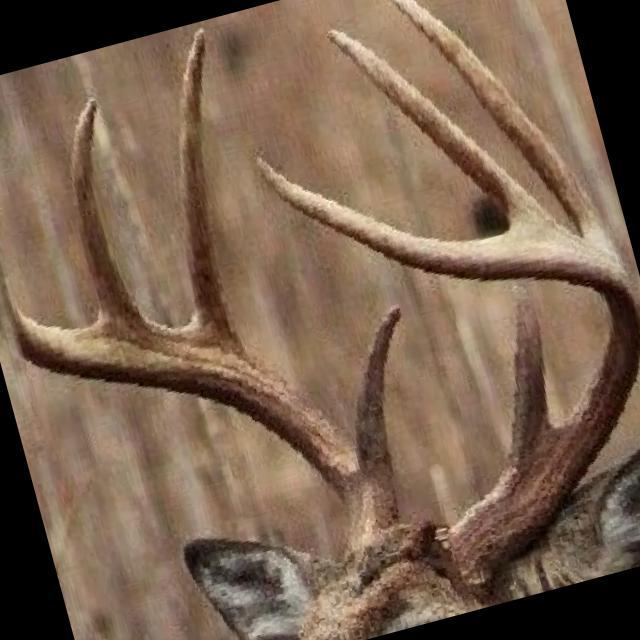L-F: (254, 154, 640, 585)
L-G1: (503, 295, 554, 478)
L-G2: (390, 0, 619, 255)
L-G3: (324, 27, 567, 230)
R-F: (0, 258, 402, 556)
R-G1: (354, 304, 403, 492)
R-G2: (179, 25, 236, 341)
R-G3: (68, 95, 144, 324)
